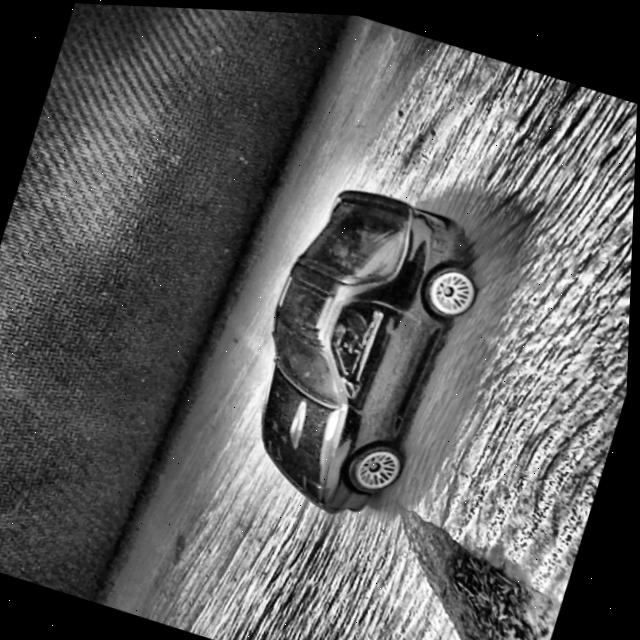car: (222, 165, 500, 534)
